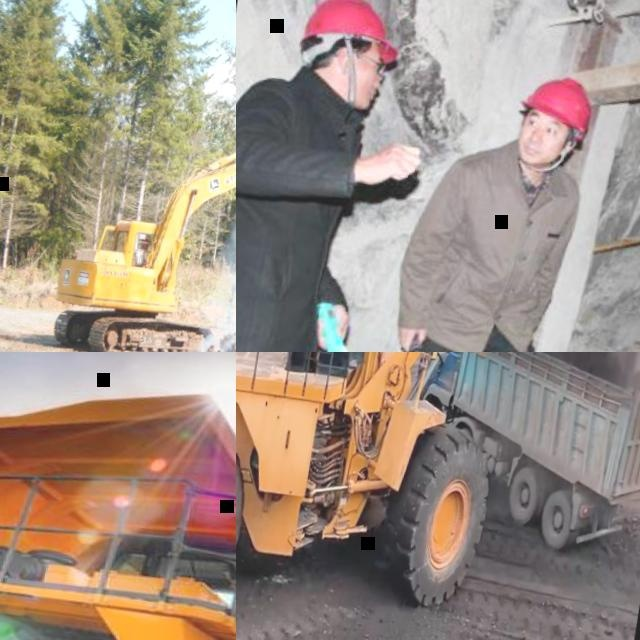Hardhat: (300, 0, 408, 64), (519, 68, 598, 139)
NO-Mask: (338, 67, 385, 107), (519, 133, 566, 166)
NO-Safety Vest: (236, 78, 369, 352), (437, 154, 584, 352)
Person: (236, 0, 442, 352), (376, 55, 604, 352), (133, 238, 150, 267)
machinery: (236, 352, 640, 640), (0, 352, 236, 640), (400, 352, 640, 574), (44, 98, 236, 352)
